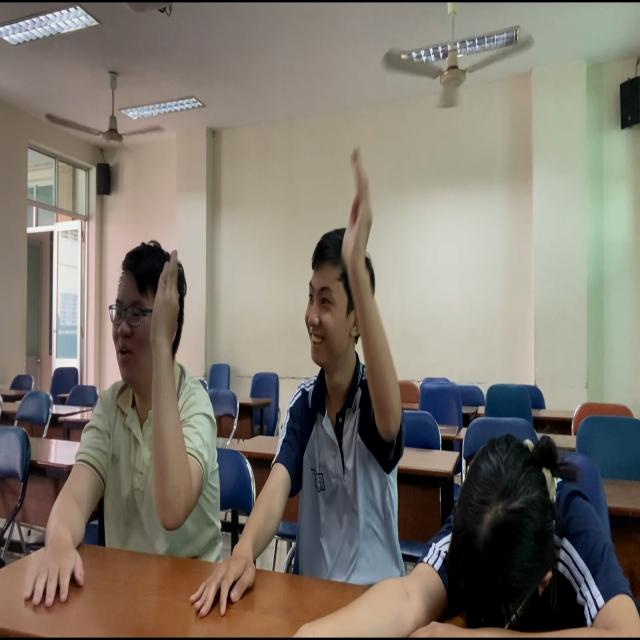raise_hand: (291, 145, 404, 613), (92, 240, 198, 561)
sleep: (421, 437, 640, 640)
